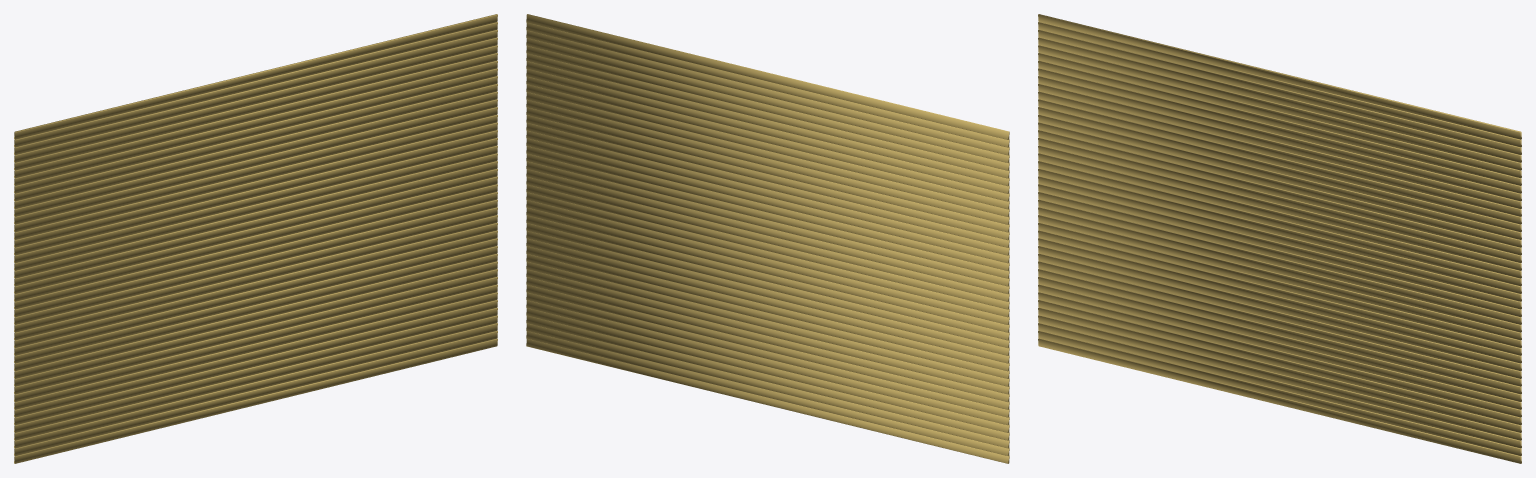
File: Wand_neu.fbx
3 views of the same model, side by side, from view 1: azimuth 30°, elevation 25°; view 2: azimuth 150°, elevation 25°; view 3: azimuth 330°, elevation 25° (orthographic).
Visible parts, largest first — view 1: Wand.135; view 2: Wand.135; view 3: Wand.135.
Part boxes in pixels (x1,y1,x2,y2): Wand.135: (14,14,497,463); Wand.135: (526,14,1009,463); Wand.135: (1038,14,1521,463).
Bounding box in the file's own units: 975 × 641 × 4.92.
